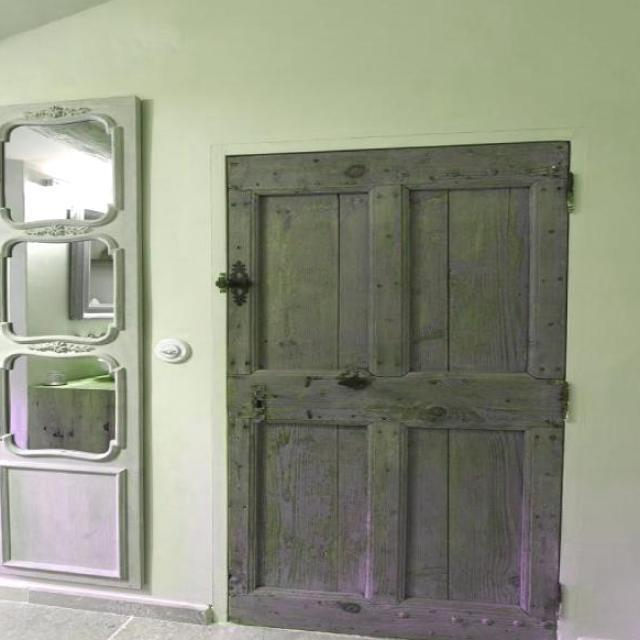door: (221, 139, 570, 638)
